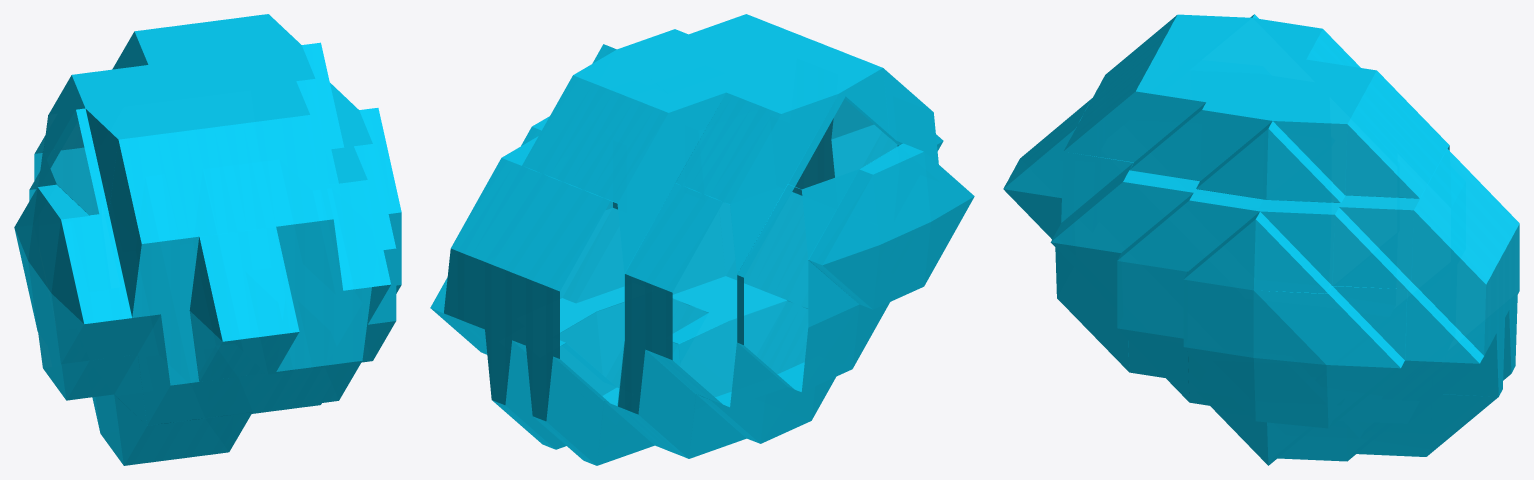
The model's file is SVV_Fragment19.gltf.
3 renders of one model, left to right at view 1: azimuth 30°, elevation 25°; view 2: azimuth 150°, elevation 25°; view 3: azimuth 270°, elevation 25°, orthographic. The views are drawn at different scales.
Visible parts, largest first — view 1: Fragment19; view 2: Fragment19; view 3: Fragment19.
Boxes of the visible parts, x1,y1,x2,y2 form: Fragment19: (14, 14, 401, 465); Fragment19: (430, 14, 974, 465); Fragment19: (1003, 14, 1519, 465).
Size of the model in its own units: 3794 by 3290 by 4566.
